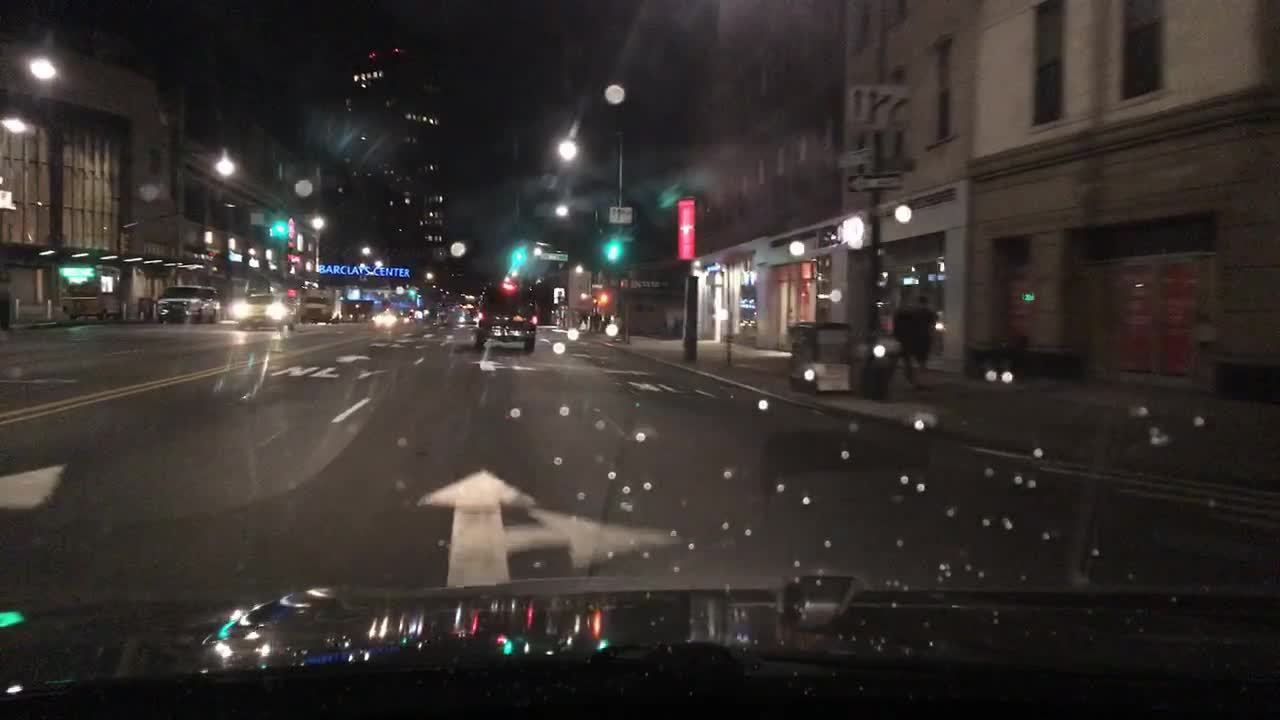car: (472, 273, 538, 354), (231, 293, 297, 331), (153, 285, 219, 322), (297, 288, 342, 320), (445, 302, 477, 324), (368, 309, 398, 327)
person: (889, 287, 921, 388), (913, 292, 940, 371), (589, 307, 602, 336)
traffic light: (509, 238, 523, 265), (607, 233, 619, 256), (273, 212, 285, 234), (595, 292, 611, 307), (616, 275, 631, 290)
traffic sign: (849, 79, 911, 133), (845, 172, 903, 196), (835, 145, 872, 165), (607, 206, 633, 223), (536, 250, 567, 261)
